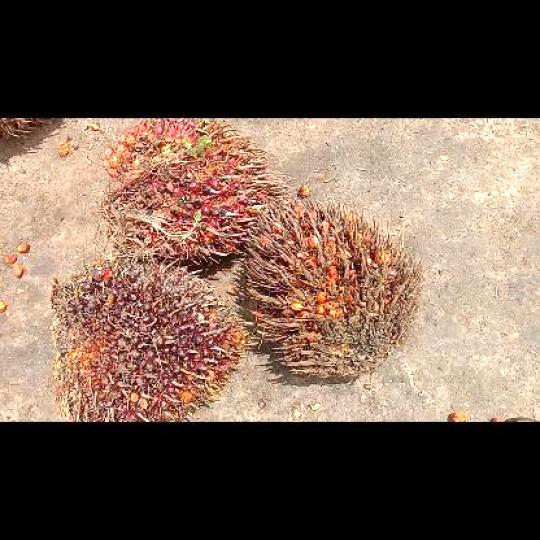kurang masak: (50, 268, 241, 420)
masak: (101, 118, 280, 270)
terlalu masak: (239, 199, 423, 382)
